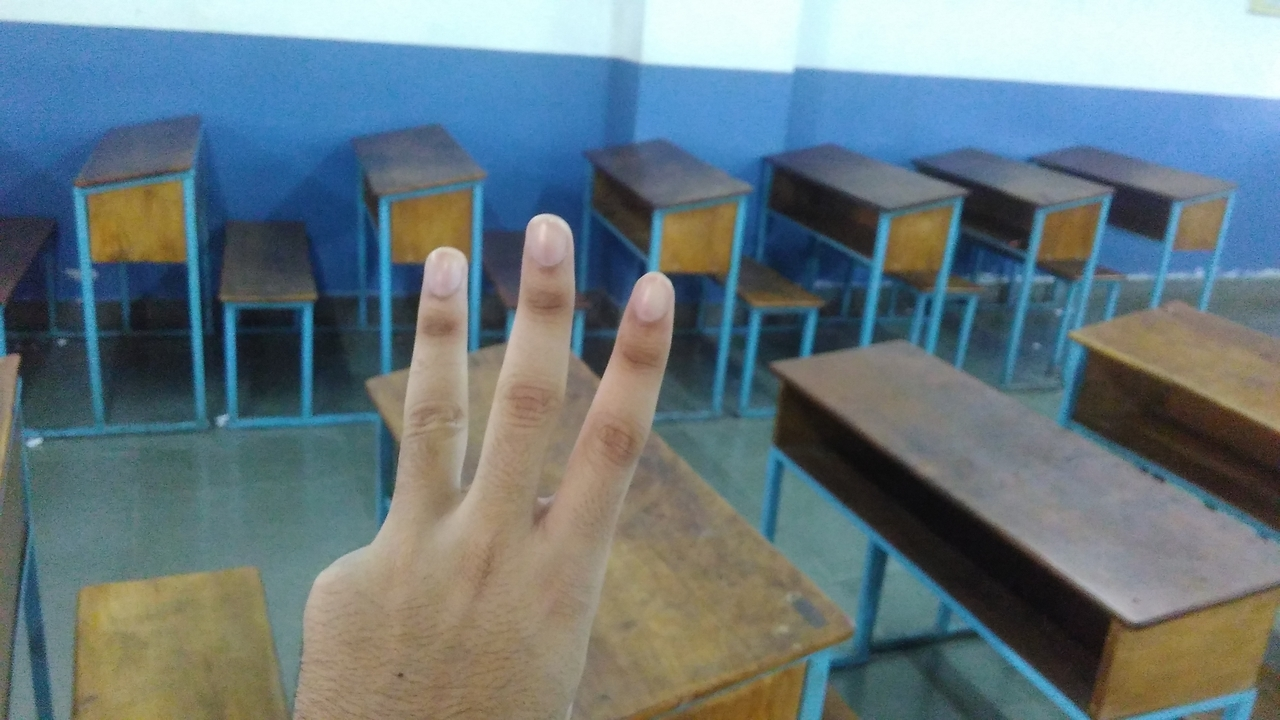fingertip: (510, 204, 580, 278), (614, 264, 682, 334), (404, 244, 466, 298)
